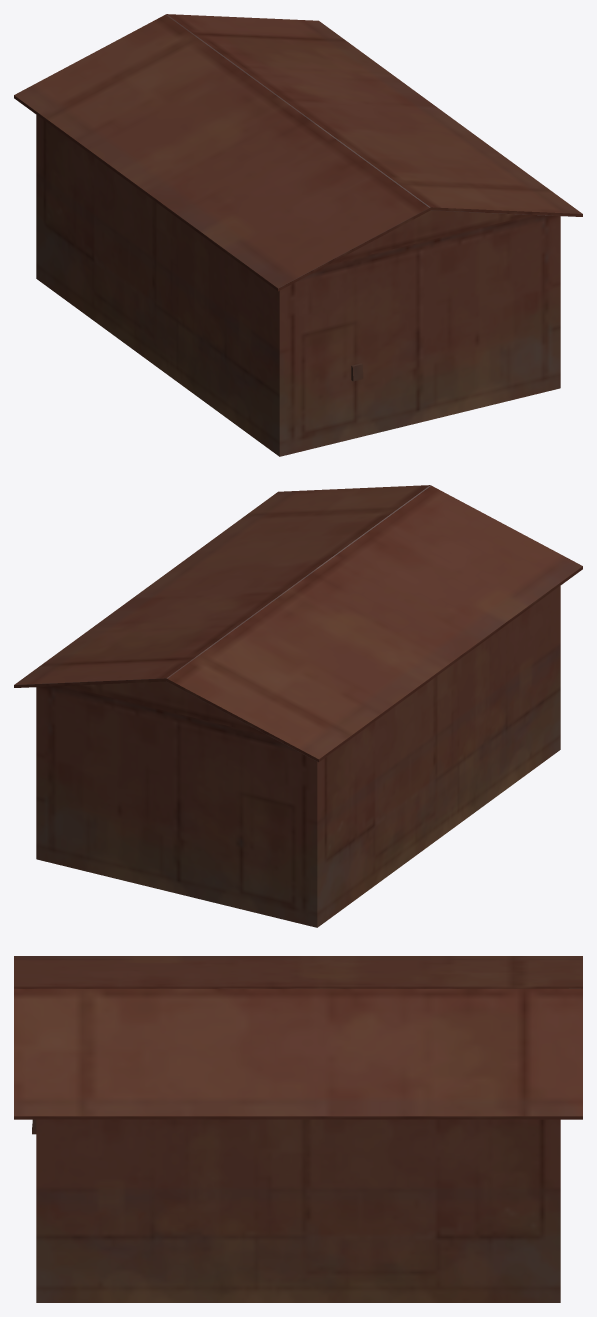
The model's file is bz_garage_01.fbx.
3 renders of one model, top to bottom at view 1: azimuth 30°, elevation 25°; view 2: azimuth 150°, elevation 25°; view 3: azimuth 270°, elevation 25°, orthographic. The views are drawn at different scales.
Visible parts, largest first — view 1: bz_garage_01; view 2: bz_garage_01; view 3: bz_garage_01.
Boxes of the visible parts, bbox=[...] form: bz_garage_01: bbox=[14, 14, 582, 456]; bz_garage_01: bbox=[14, 485, 582, 927]; bz_garage_01: bbox=[14, 956, 582, 1302].
Size of the model in its own units: 4.34 by 3.03 by 6.51.
